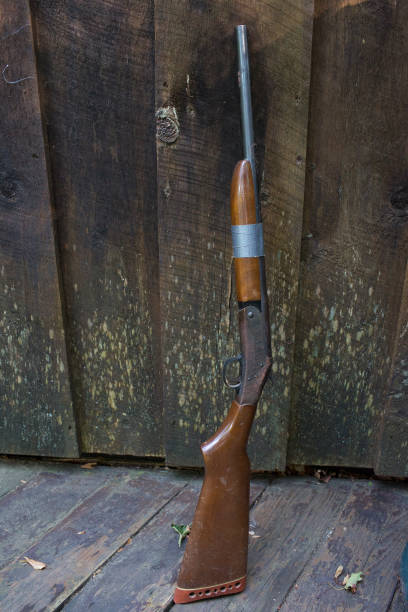shotgun: (172, 18, 278, 611)
